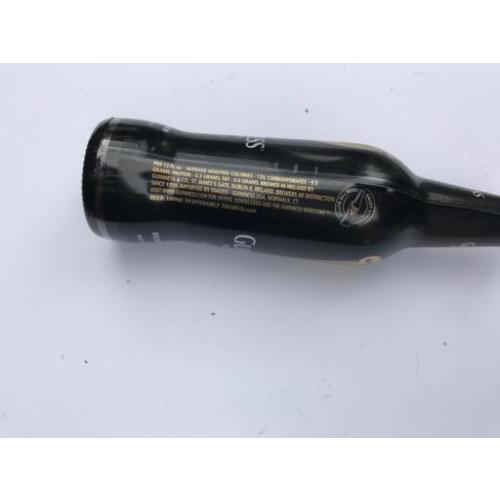glass: (82, 114, 500, 264)
